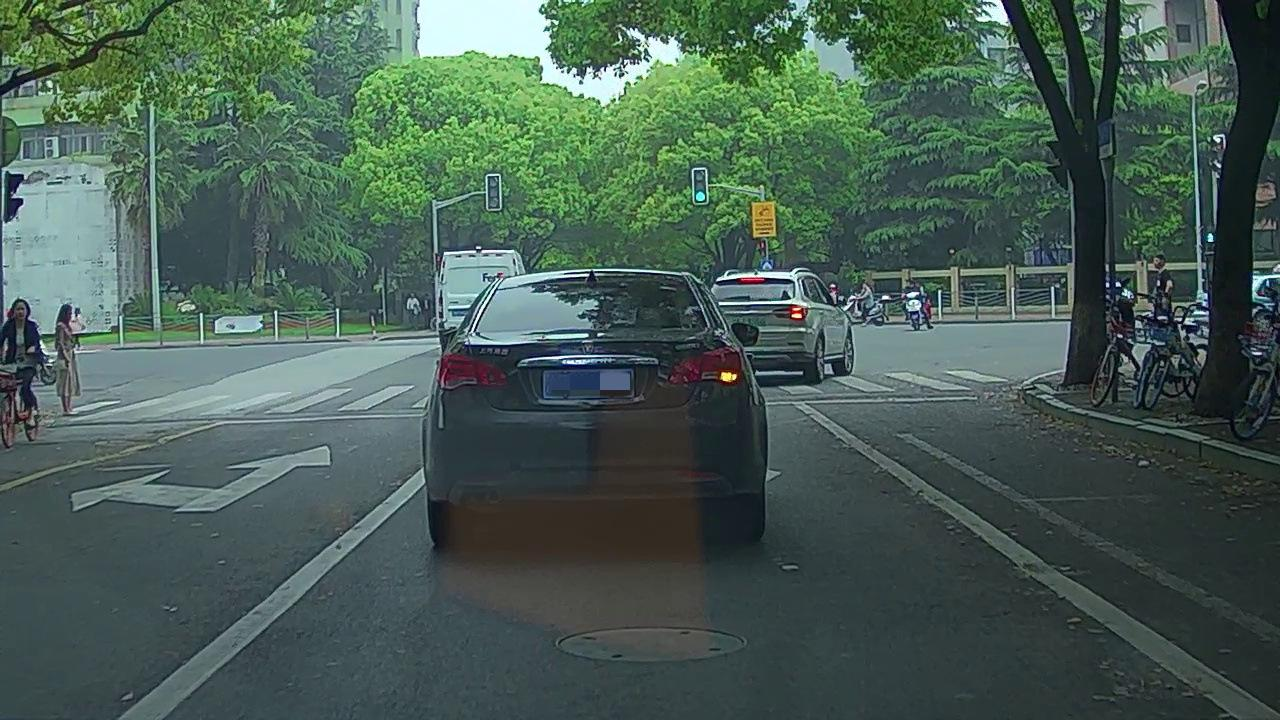traffic_light: (487, 176, 500, 209), (694, 170, 707, 202)
